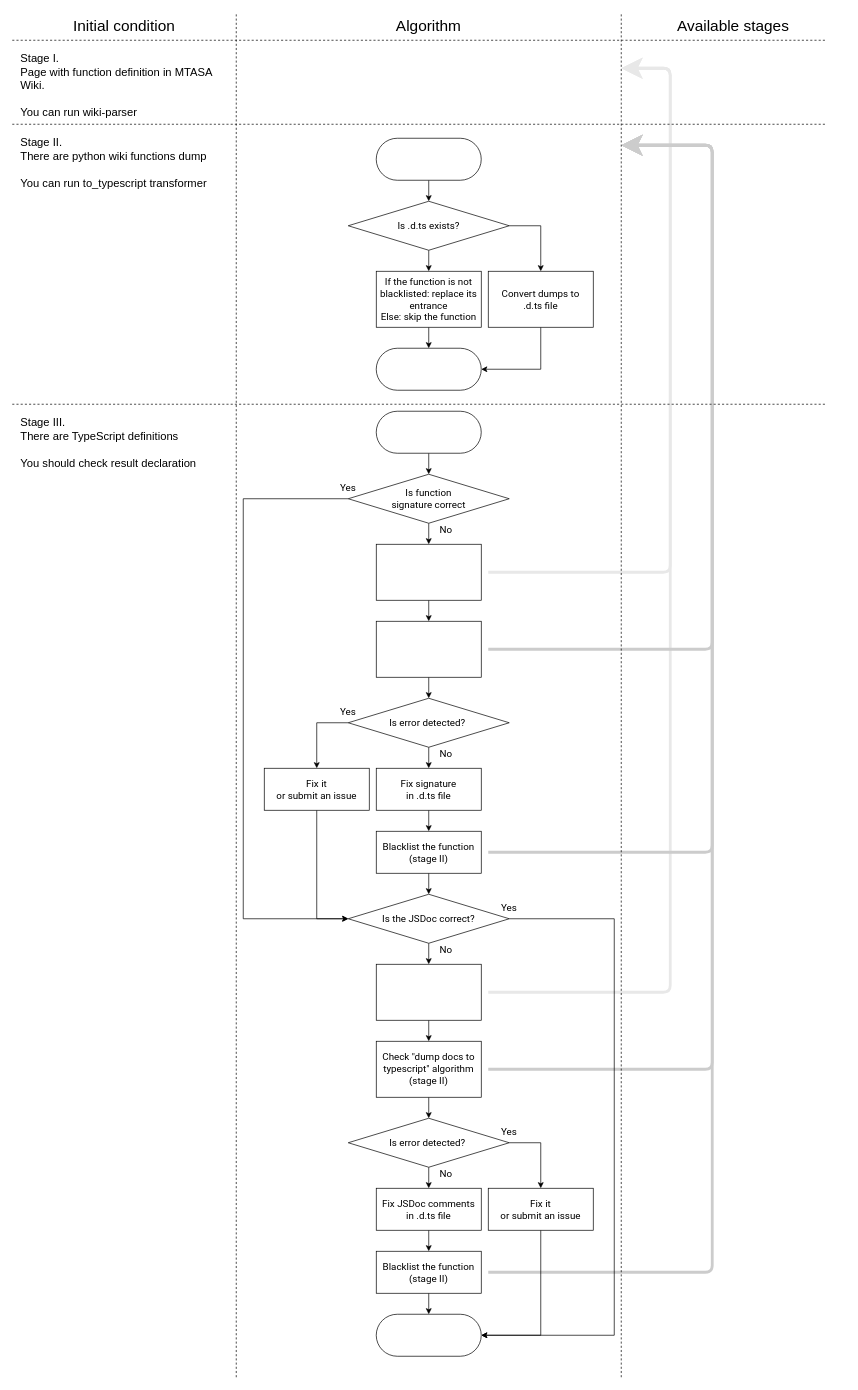
Some shapes in this 858 by 1390 pixel diagram are drawn without their labels. Each missing label, with the centre of its shape:
Check "dump to typescript" algorithm (stage II): point 428,649
Check dump files correctness (stage I): point 428,572
Check dump files docs correctness (stage I): point 428,992
Finish :): point 428,1335
Start: point 428,432
Transformer end: point 428,369
Transformer start: point 428,159
